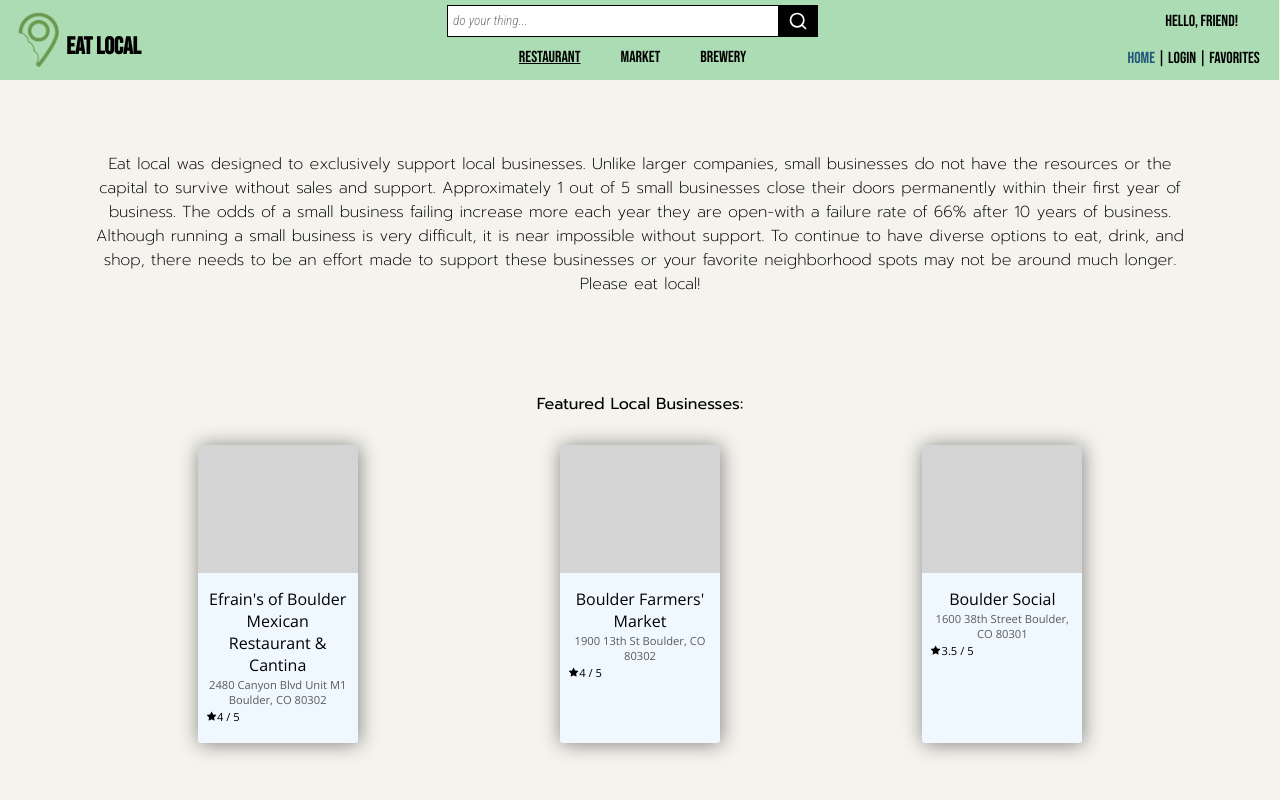
Results Page › can search for a market and see results
Click the radio button with test id "market-radio". click: (641, 58)
box: [621,48,661,67]
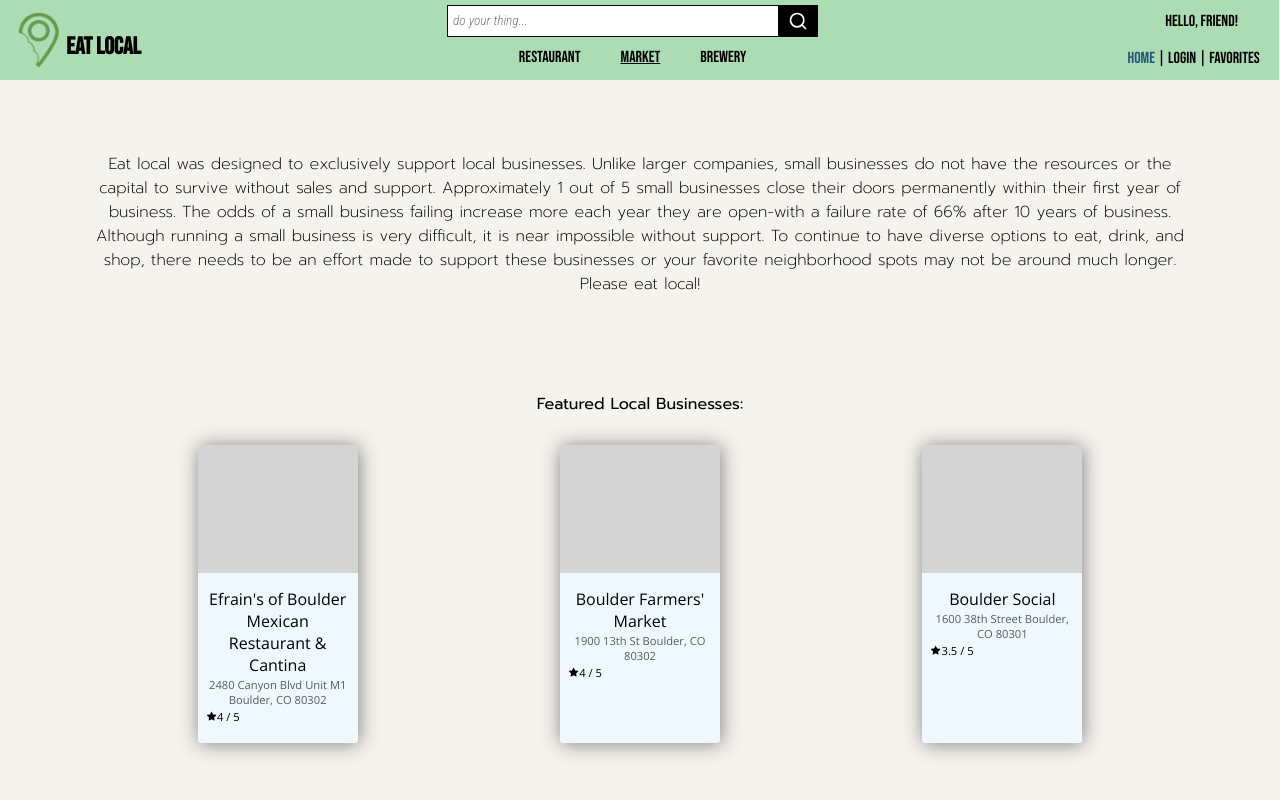
Type "Denver" into the field with test id "search" showing "do your thing...". click: (613, 21)
box: [447,5,778,37]
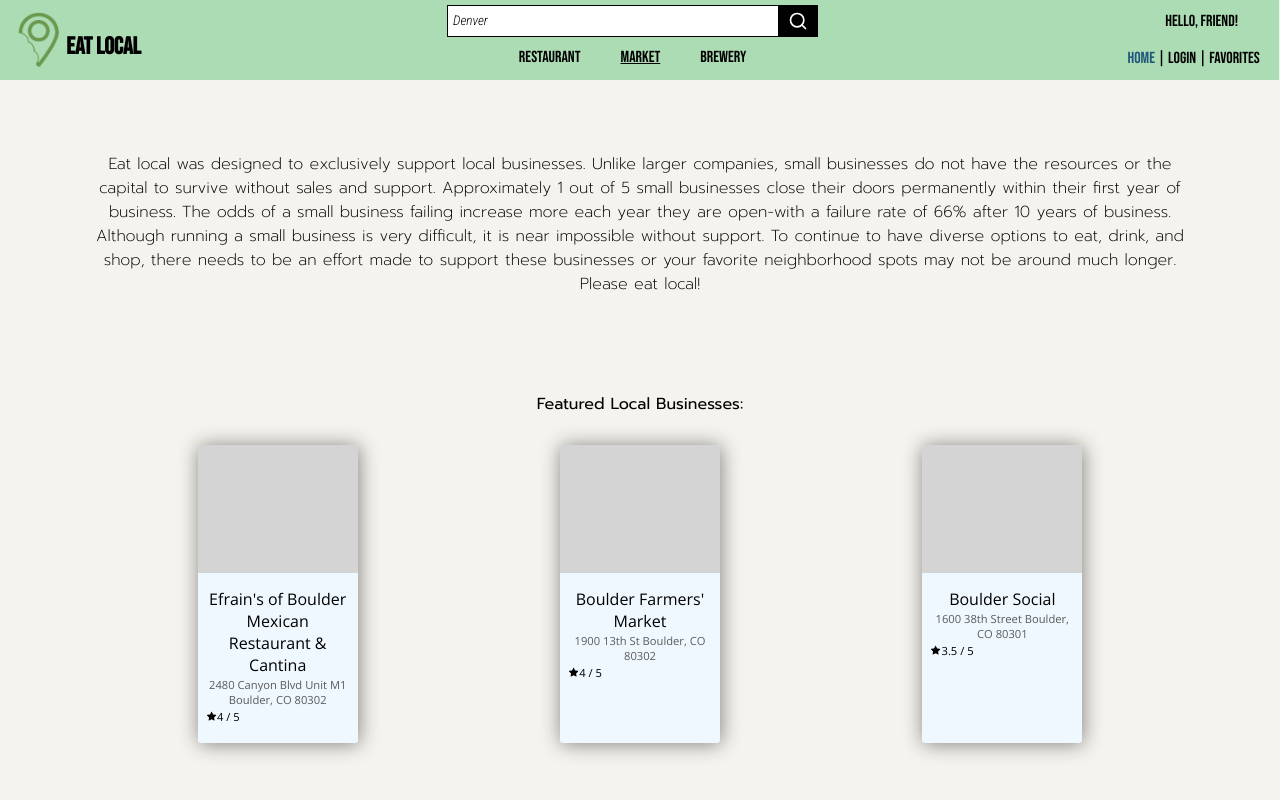
Click the button with test id "submit". click: (798, 21)
box: [778,5,818,37]
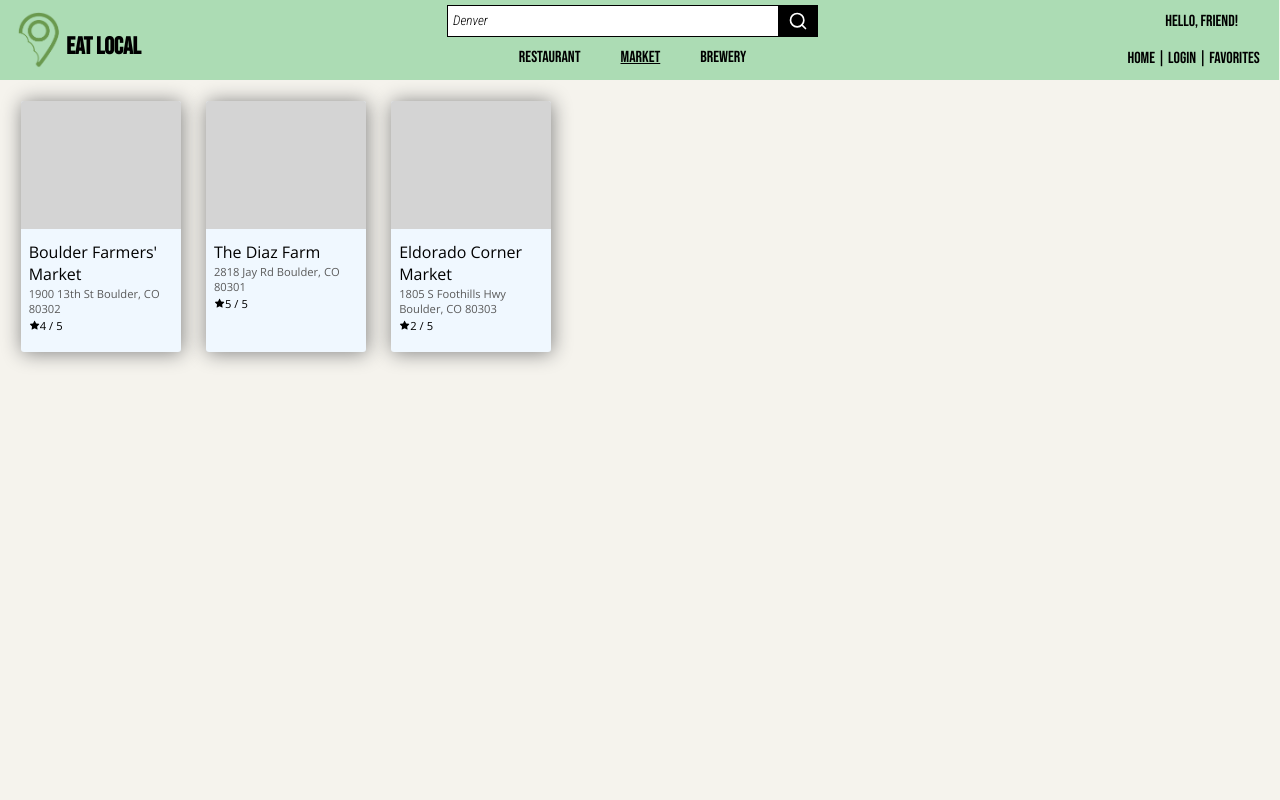
Result: the text with test id "business-card" reads "Boulder Farmers' Market" at [29,241,157,285]
Result: the text with test id "business-card" reads "1900 13th St Boulder, CO 80302" at [29,286,173,316]
Result: the text "The Diaz Farm" is shown at [214,241,320,263]
